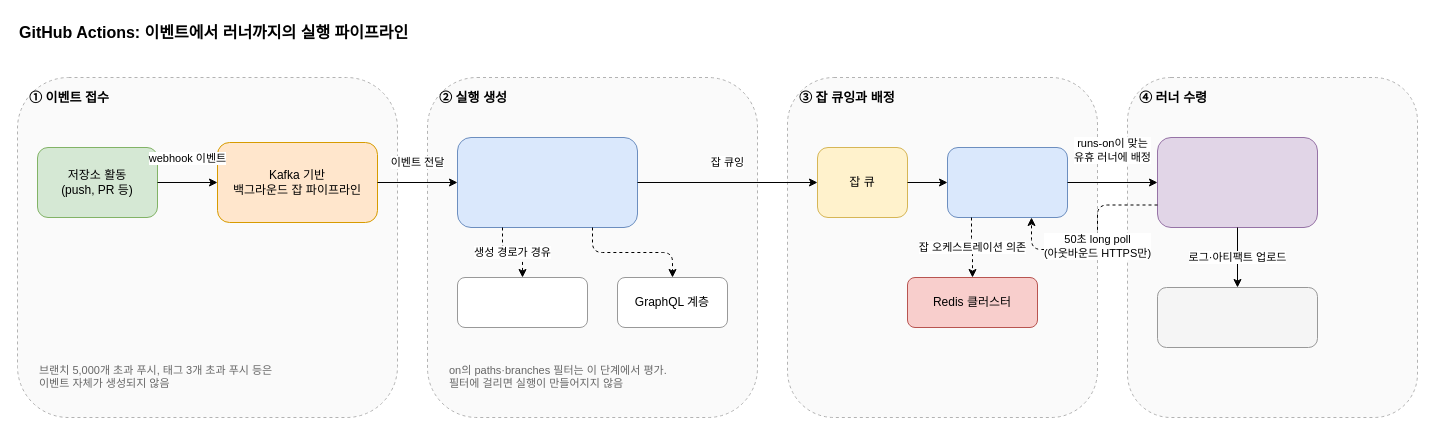
This 1435x435 diagram has some shape labels left out. Each missing label, with the centre of its shape:
Azure Blob Storage (로그·아티팩트): [1237,317]
check suite 생성: [522,302]
내부 Actions 서비스 트리거 조건 평가, 실행(run)·잡 생성: [547,182]
러너 (Azure Pipelines Agent 포크): [1237,182]
잡 배정 서비스: [1007,182]
